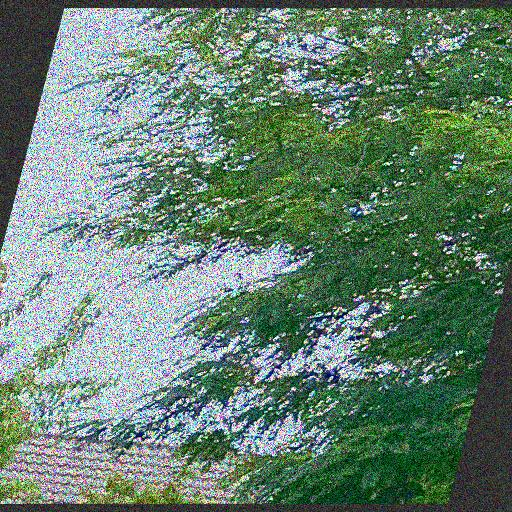tree: (41, 8, 512, 504), (1, 258, 122, 503)
